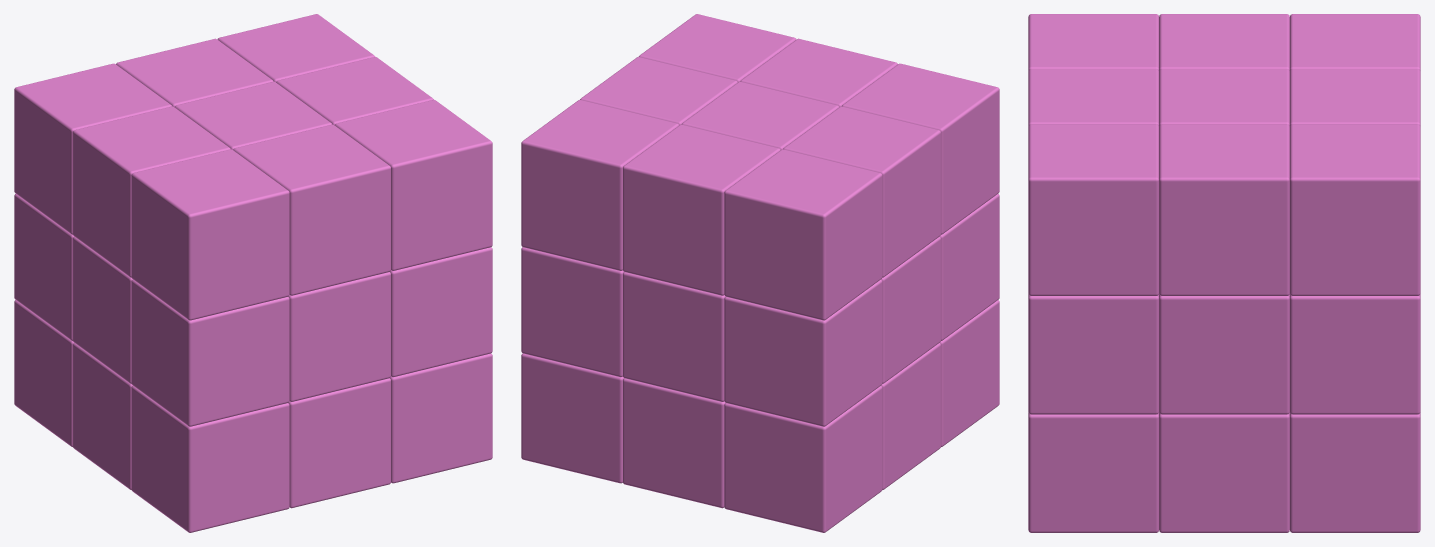
Rendered from rubiks4.glb.
The picture shows the model from 3 angles, left to right: view 1: azimuth 30°, elevation 25°; view 2: azimuth 150°, elevation 25°; view 3: azimuth 270°, elevation 25°; orthographic projection. The views are drawn at different scales.
Parts seen in each view (by area): view 1: Cube.018, Cube, Cube.009, Cube.019, Cube.020, Cube.024, Cube.021, Cube.002, Cube.001, Cube.010, Cube.011, Cube.012 (+7 smaller); view 2: Cube.024, Cube.006, Cube.015, Cube.025, Cube.026, Cube.018, Cube.021, Cube.008, Cube.007, Cube.016, Cube.017, Cube.009 (+7 smaller); view 3: Cube.020, Cube.026, Cube.023, Cube.011, Cube.017, Cube.005, Cube.014, Cube.002, Cube.008, Cube.021, Cube.022, Cube.018 (+3 smaller).
Boxes of the visible parts, box(x1,y1,x2,y2) form: Cube.018: box(131, 149, 289, 320); Cube: box(131, 386, 289, 532); Cube.009: box(131, 279, 289, 426); Cube.019: box(233, 124, 390, 295); Cube.020: box(334, 100, 492, 270); Cube.024: box(14, 63, 171, 234); Cube.021: box(73, 106, 230, 277); Cube.002: box(390, 353, 492, 483); Cube.001: box(288, 378, 390, 508); Cube.010: box(288, 272, 390, 401); Cube.011: box(390, 247, 492, 377); Cube.012: box(73, 236, 132, 383); Cube.024: box(724, 149, 882, 320); Cube.006: box(724, 386, 882, 532); Cube.015: box(724, 279, 882, 426); Cube.025: box(623, 124, 780, 295); Cube.026: box(521, 100, 679, 270); Cube.018: box(842, 63, 999, 234); Cube.021: box(783, 106, 940, 277); Cube.008: box(521, 353, 623, 483); Cube.007: box(623, 378, 725, 508); Cube.016: box(623, 272, 725, 401); Cube.017: box(521, 247, 623, 377); Cube.009: box(940, 194, 999, 340); Cube.020: box(1028, 124, 1158, 295); Cube.026: box(1290, 124, 1420, 295); Cube.023: box(1159, 124, 1289, 295); Cube.011: box(1028, 293, 1158, 414); Cube.017: box(1290, 293, 1420, 414); Cube.005: box(1159, 412, 1289, 532); Cube.014: box(1159, 293, 1289, 414); Cube.002: box(1028, 412, 1158, 532); Cube.008: box(1290, 412, 1420, 532); Cube.021: box(1159, 14, 1289, 71); Cube.022: box(1159, 69, 1289, 126); Cube.018: box(1028, 14, 1158, 71).
Bounding box in the file's own units: 0.75 × 0.75 × 0.75.
